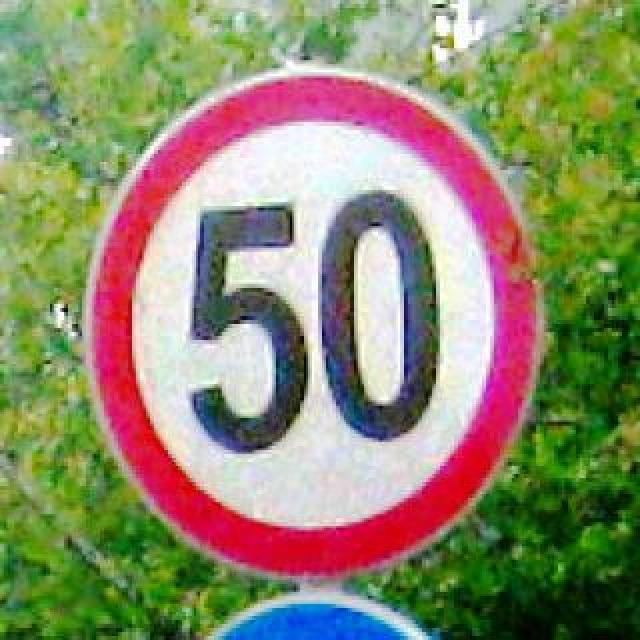50 kph: (80, 62, 544, 580)
